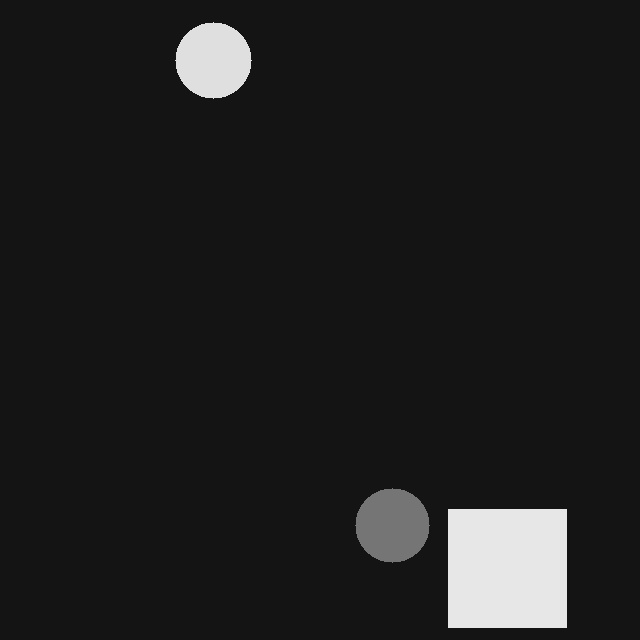circle: (175, 22, 251, 98), (355, 488, 429, 562)
square: (448, 509, 566, 627)
